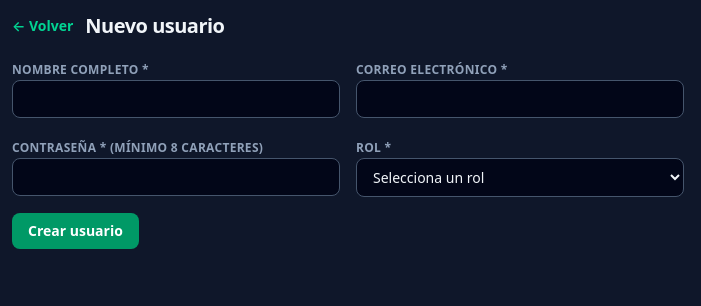
alta de usuarios (/usuarios/nuevo) › muestra «← Volver» al listado y valida los campos obligatorios
Check: the link "← Volver" is shown, box [12,16,73,36]
Step 1. Click the button "Crear usuario" → (75, 231), box [12,213,139,249]
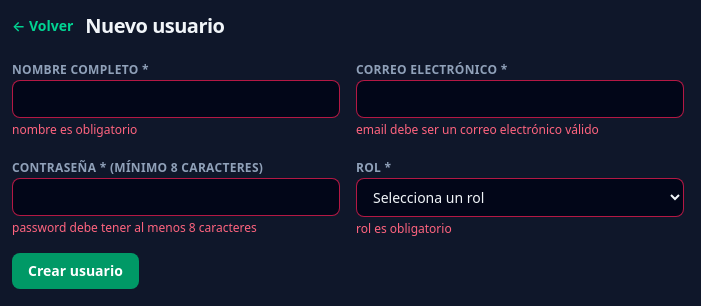
Check: the text "nombre es obligatorio" is shown, box [12,121,137,138]
Check: the text "email debe ser un correo electrónico válido" is shown, box [356,121,599,138]
Check: the text "password debe tener al menos 8 caracteres" is shown, box [12,219,257,236]
